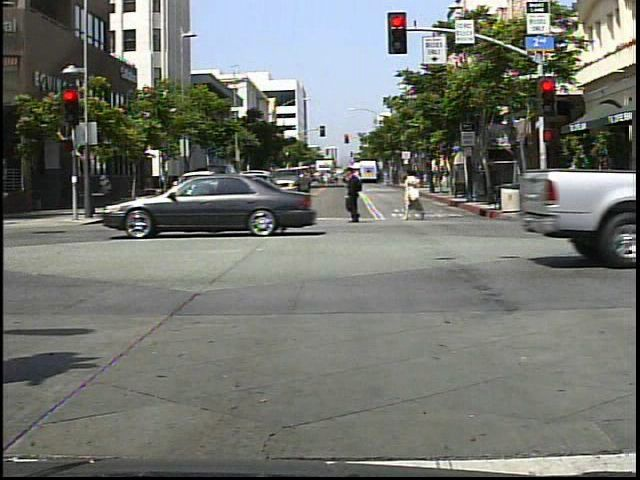person: (340, 163, 374, 228), (202, 167, 235, 226), (400, 163, 431, 222), (564, 158, 586, 208)
